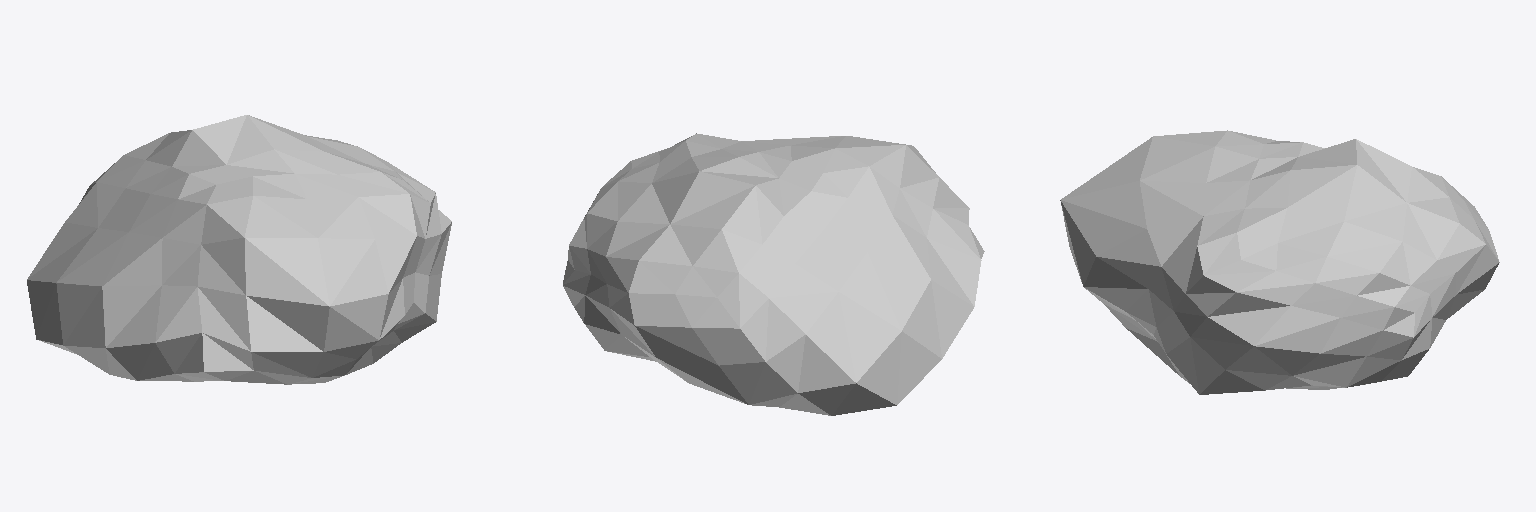
The model's file is rock1.obj.
3 renders of one model, left to right at view 1: azimuth 30°, elevation 25°; view 2: azimuth 150°, elevation 25°; view 3: azimuth 270°, elevation 25°, orthographic.
Parts seen in each view (by area): view 1: Mesh; view 2: Mesh; view 3: Mesh.
Part boxes in pixels (x1,y1,x2,y2): Mesh: (27,115,451,384); Mesh: (563,133,984,415); Mesh: (1060,130,1499,394).
Bounding box in the file's own units: 2.72 × 1.5 × 2.82.